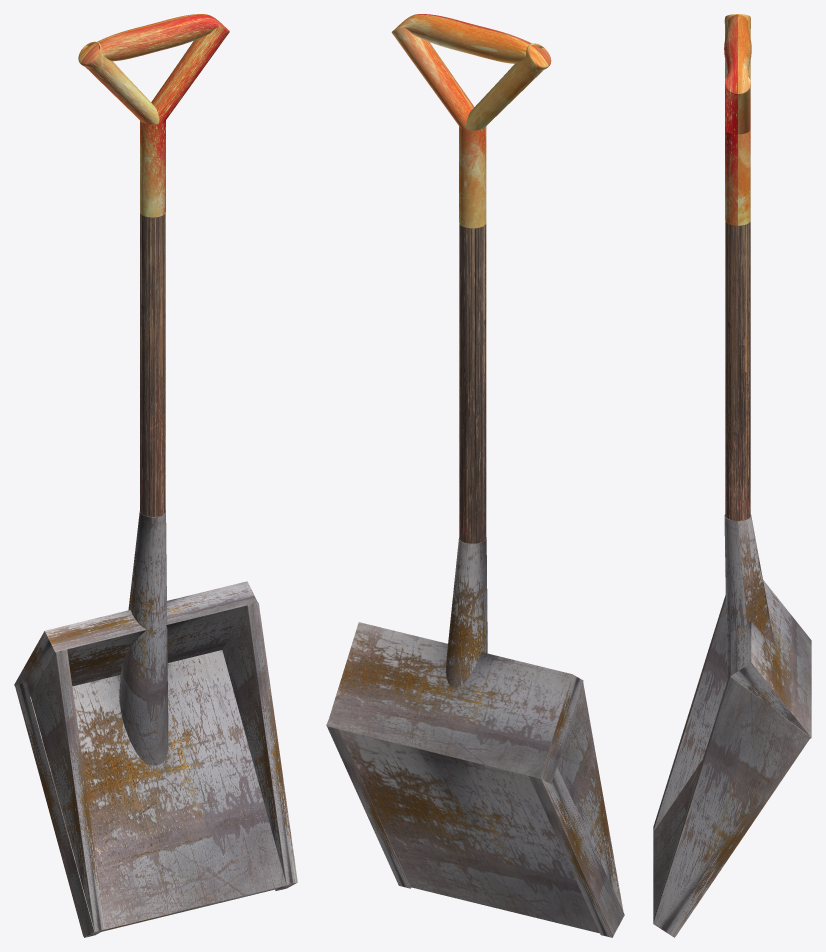
File: sukoppu 1.fbx
The picture shows the model from 3 angles, left to right: view 1: azimuth 30°, elevation 25°; view 2: azimuth 150°, elevation 25°; view 3: azimuth 270°, elevation 25°; orthographic projection. The views are drawn at different scales.
Parts seen in each view (by area): view 1: 立方体_5; view 2: 立方体_5; view 3: 立方体_5.
Part boxes in pixels (x1,y1,x2,y2): 立方体_5: [14, 14, 297, 937]; 立方体_5: [326, 14, 624, 937]; 立方体_5: [653, 14, 811, 937].
Size of the model in its own units: 90.32 by 367 by 61.59.
Materials: 3 (3 with a texture image).
